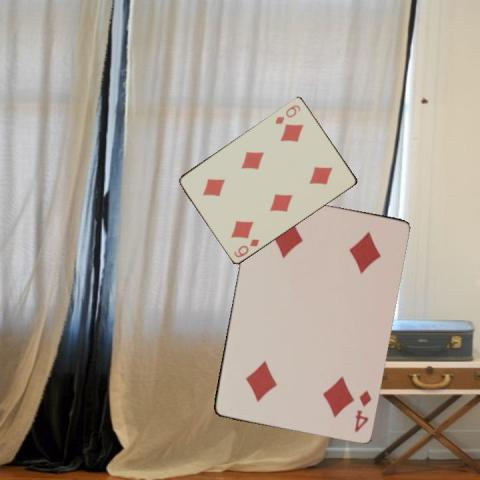4d: (351, 387, 373, 433)
6d: (272, 102, 302, 126), (231, 235, 261, 259)
